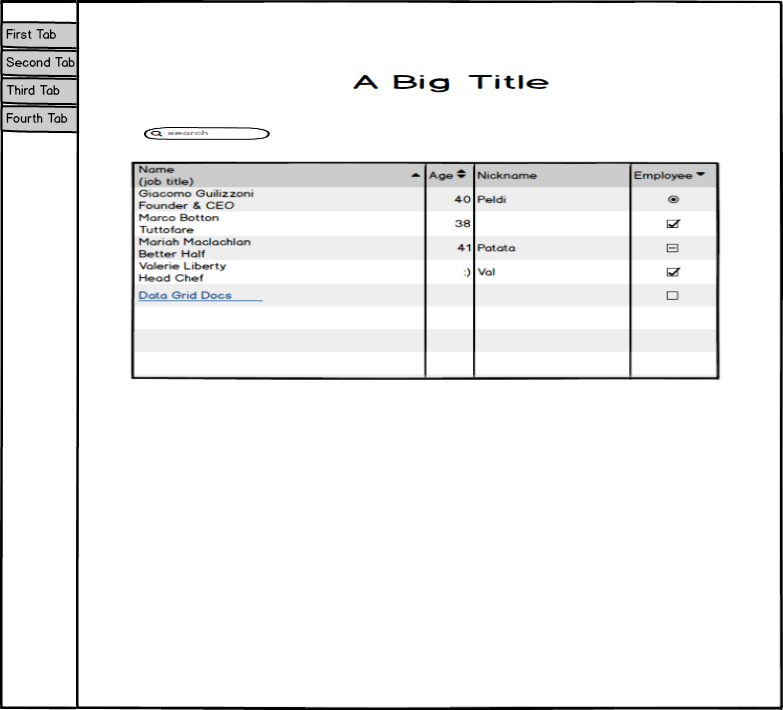h1: (346, 65, 560, 97)
search: (141, 122, 275, 143)
sidebar: (3, 15, 82, 139)
table: (127, 157, 724, 384)
